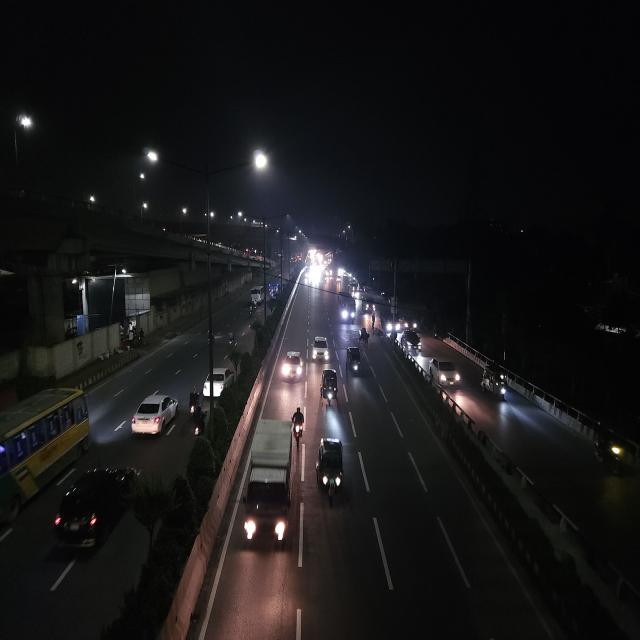bus: (0, 382, 90, 488), (337, 290, 358, 326)
car: (50, 460, 140, 559), (128, 389, 181, 444), (201, 361, 235, 400), (428, 354, 462, 392), (280, 347, 304, 386), (311, 333, 329, 364), (403, 329, 423, 352), (249, 287, 264, 303), (361, 296, 376, 312)
cng: (314, 434, 346, 507), (590, 423, 624, 469), (478, 361, 507, 400), (319, 366, 339, 409), (345, 343, 363, 380), (358, 326, 369, 346)
motorcycle: (289, 403, 307, 444), (187, 410, 207, 440), (188, 385, 203, 421), (226, 330, 238, 350), (248, 305, 255, 317)
pedestrian: (371, 313, 376, 330)
pickup_van: (380, 312, 400, 333)
truck: (240, 412, 302, 552), (345, 344, 363, 379), (268, 282, 279, 300)
